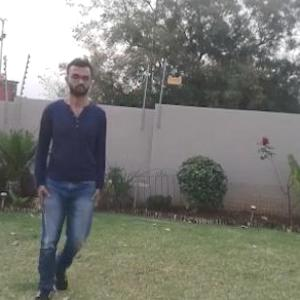follow: (37, 58, 111, 290)
